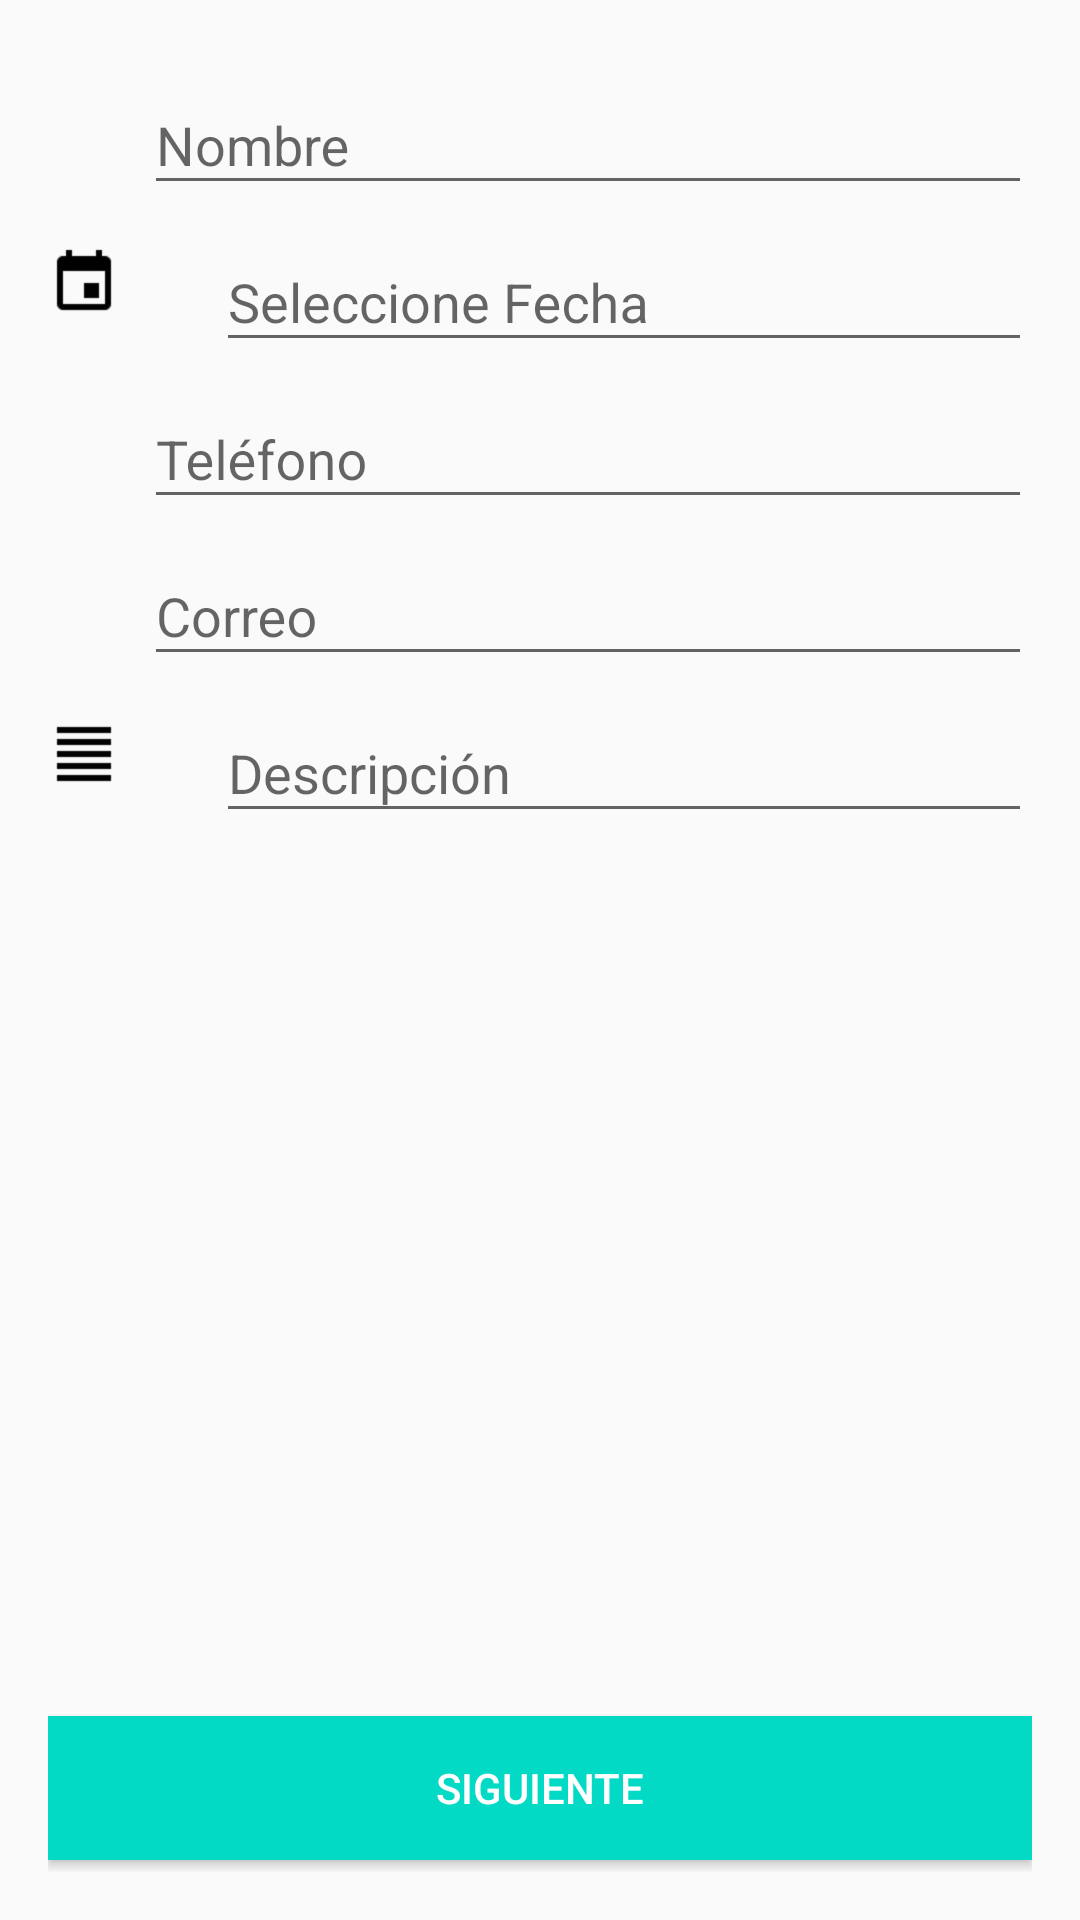

Icon click points for this 1080px x 1920px phone screenshot, format point (x, y):
calendar: point (84, 280)
descripcion: point (84, 754)
